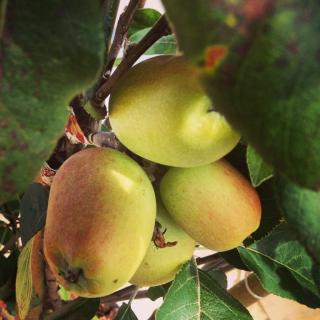Pear: (42, 149, 156, 298), (104, 54, 244, 170), (160, 164, 262, 253), (127, 173, 197, 291)
